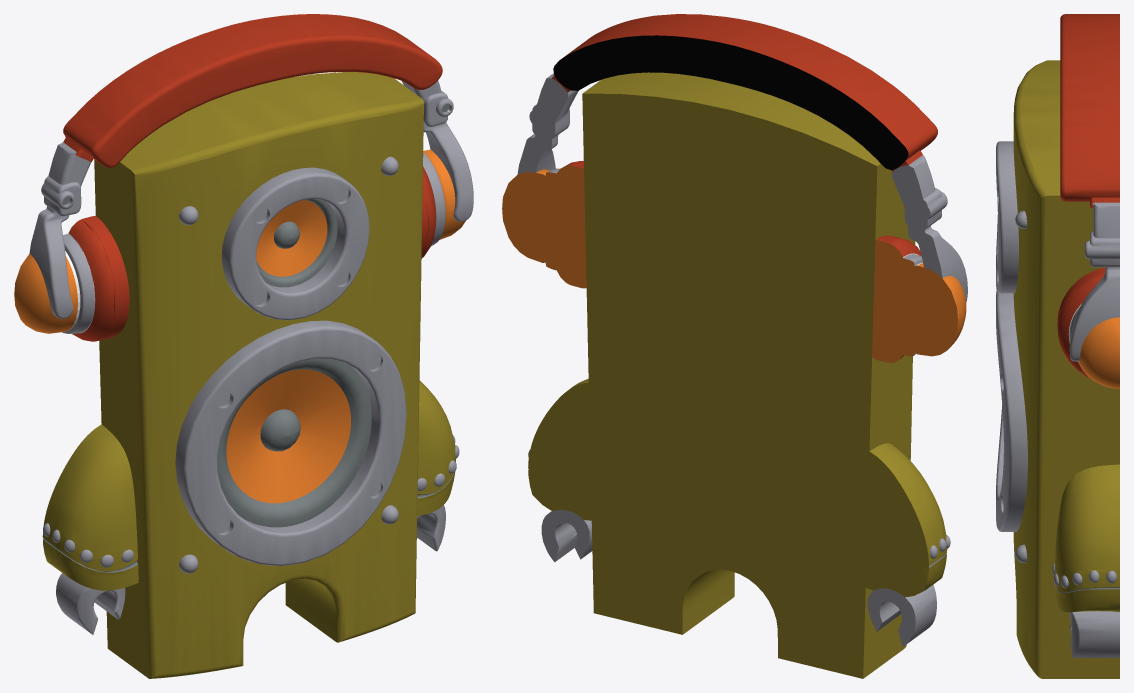
The model's file is Blue_Robots_Brother.gltf.
The picture shows the model from 3 angles, left to right: view 1: azimuth 30°, elevation 25°; view 2: azimuth 150°, elevation 25°; view 3: azimuth 270°, elevation 25°; orthographic projection. The views are drawn at different scales.
Visible parts, largest first — view 1: node-0; view 2: node-0; view 3: node-0.
Boxes of the visible parts, bbox=[...] form: node-0: bbox=[14, 14, 473, 678]; node-0: bbox=[502, 14, 967, 678]; node-0: bbox=[996, 14, 1119, 678].
Size of the model in its own units: 0.1452 by 0.1831 by 0.0362.
